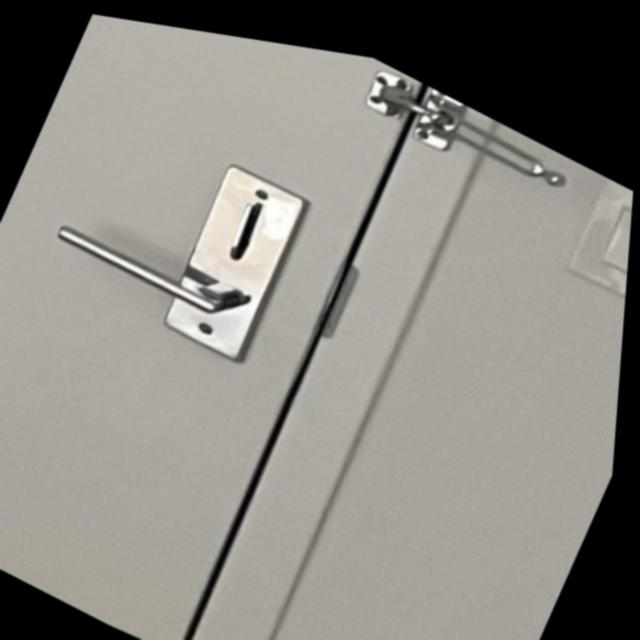door_handle: (26, 173, 293, 365)
